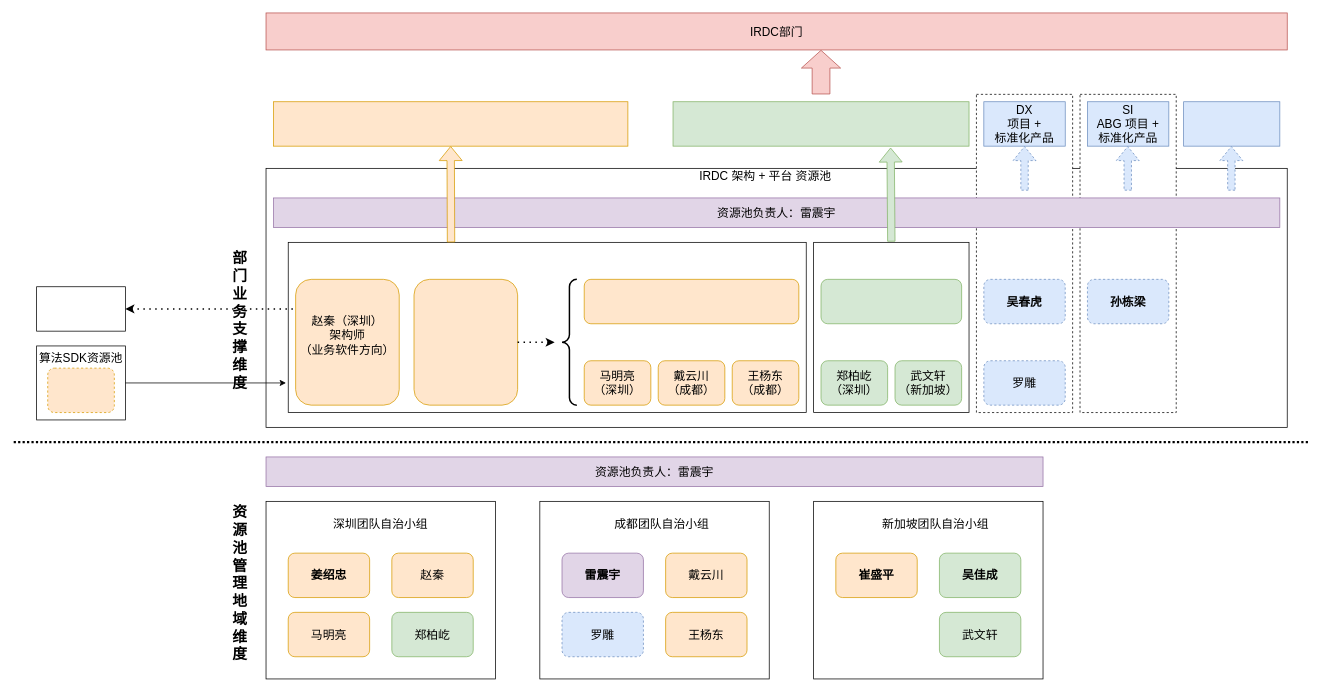
Image size: 1324x692. Some labels were removed from this diagram. The box of each missing label's shape, as (x1, y1, x2, y2) in pixels:
AIoT ABG 项目 + 标准化产品: (1183, 101, 1280, 146)
IR ABG 项目 + 标准化产品: (672, 101, 969, 146)
业务软件资源池: (36, 286, 125, 331)
吕科 （上海）: (47, 367, 114, 413)
吴佳成（新加坡）: (820, 279, 962, 324)
姜绍忠（深圳） 架构师 （平台软件方向）: (413, 279, 518, 405)
崔盛平（新加坡）: (583, 279, 799, 324)
途灵SenseX（IBG + ABG） IBG项目 + ABG 项目 + 标准化产品: (273, 101, 628, 146)
